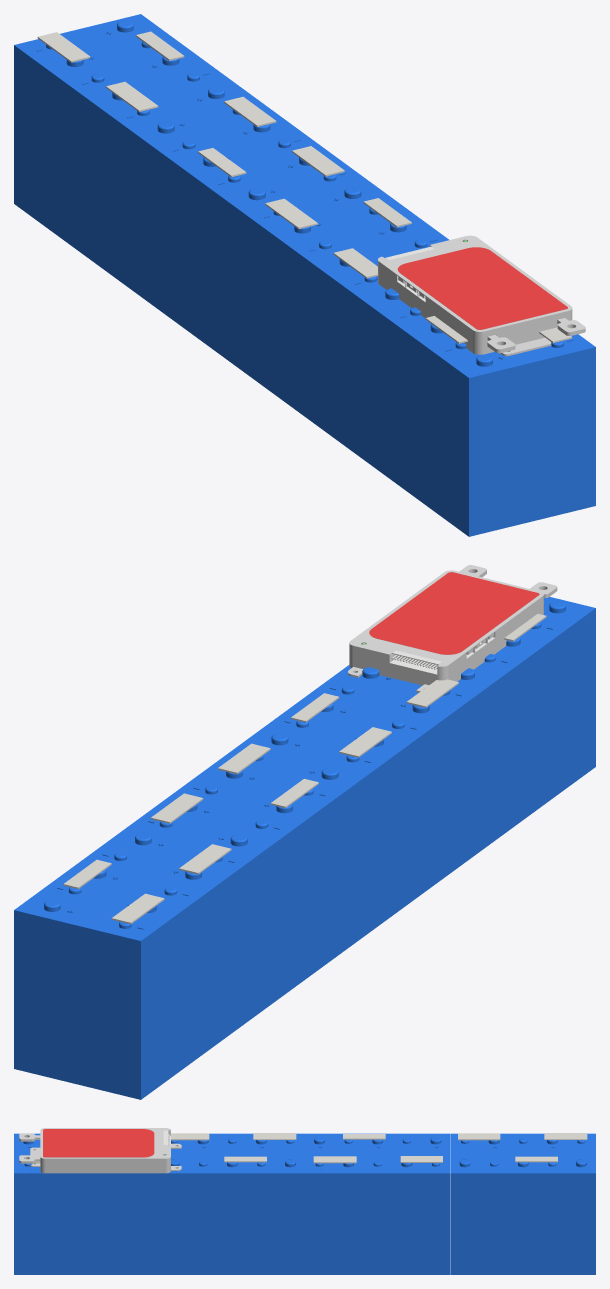
File: packk.glb
The picture shows the model from 3 angles, top to bottom: view 1: azimuth 30°, elevation 25°; view 2: azimuth 150°, elevation 25°; view 3: azimuth 270°, elevation 25°; orthographic projection. The views are drawn at different scales.
Parts seen in each view (by area): view 1: Body1, Body1.030, Body1.018, Body1.026, Body1.021, Body1.008, Body1.028, Body1.022, Body1.006, Body1.025, Body1.020, Body1.027 (+15 smaller); view 2: Body1.024, Body1.030, Body1.006, Body1.009, Body1.022, Body1.020, Body1.027, Body1.026, Body1.021, Body1.018, Body1.025, Body1.008 (+15 smaller); view 3: Body1.030, Body1.008, Body1.020, Body1.026, Body1.009, Body1.027, Body1.021, Body1.022, Body1.028, Body1.019, Body1.007, Body1.025 (+18 smaller).
Part boxes in pixels (bbox=[...]): Body1: bbox=[446, 334, 595, 536]; Body1.030: bbox=[378, 235, 585, 356]; Body1.018: bbox=[218, 164, 367, 369]; Body1.026: bbox=[59, 47, 208, 253]; Body1.021: bbox=[150, 114, 299, 319]; Body1.008: bbox=[287, 214, 436, 419]; Body1.028: bbox=[105, 80, 254, 286]; Body1.022: bbox=[127, 97, 276, 303]; Body1.006: bbox=[241, 180, 390, 386]; Body1.025: bbox=[36, 30, 185, 236]; Body1.020: bbox=[173, 130, 322, 336]; Body1.027: bbox=[82, 64, 231, 269]; Body1.024: bbox=[14, 893, 163, 1099]; Body1.030: bbox=[348, 565, 557, 692]; Body1.006: bbox=[242, 727, 391, 933]; Body1.009: bbox=[310, 677, 459, 882]; Body1.022: bbox=[128, 810, 277, 1016]; Body1.020: bbox=[173, 777, 322, 982]; Body1.027: bbox=[82, 843, 231, 1049]; Body1.026: bbox=[60, 860, 209, 1066]; Body1.021: bbox=[151, 793, 300, 999]; Body1.018: bbox=[219, 743, 368, 949]; Body1.025: bbox=[37, 877, 186, 1082]; Body1.008: bbox=[287, 693, 436, 899]; Body1.030: bbox=[19, 1128, 181, 1173]; Body1.008: bbox=[217, 1133, 246, 1274]; Body1.020: bbox=[363, 1133, 392, 1274]; Body1.026: bbox=[508, 1133, 537, 1274]; Body1.009: bbox=[188, 1133, 217, 1274]; Body1.027: bbox=[479, 1133, 508, 1274]; Body1.021: bbox=[392, 1133, 421, 1274]; Body1.022: bbox=[421, 1133, 450, 1274]; Body1.028: bbox=[450, 1133, 479, 1274]; Body1.019: bbox=[334, 1133, 363, 1274]; Body1.007: bbox=[246, 1133, 275, 1274]; Body1.025: bbox=[537, 1133, 566, 1274].
Bounding box in the file's own units: 0.174 × 0.239 × 1.08.
